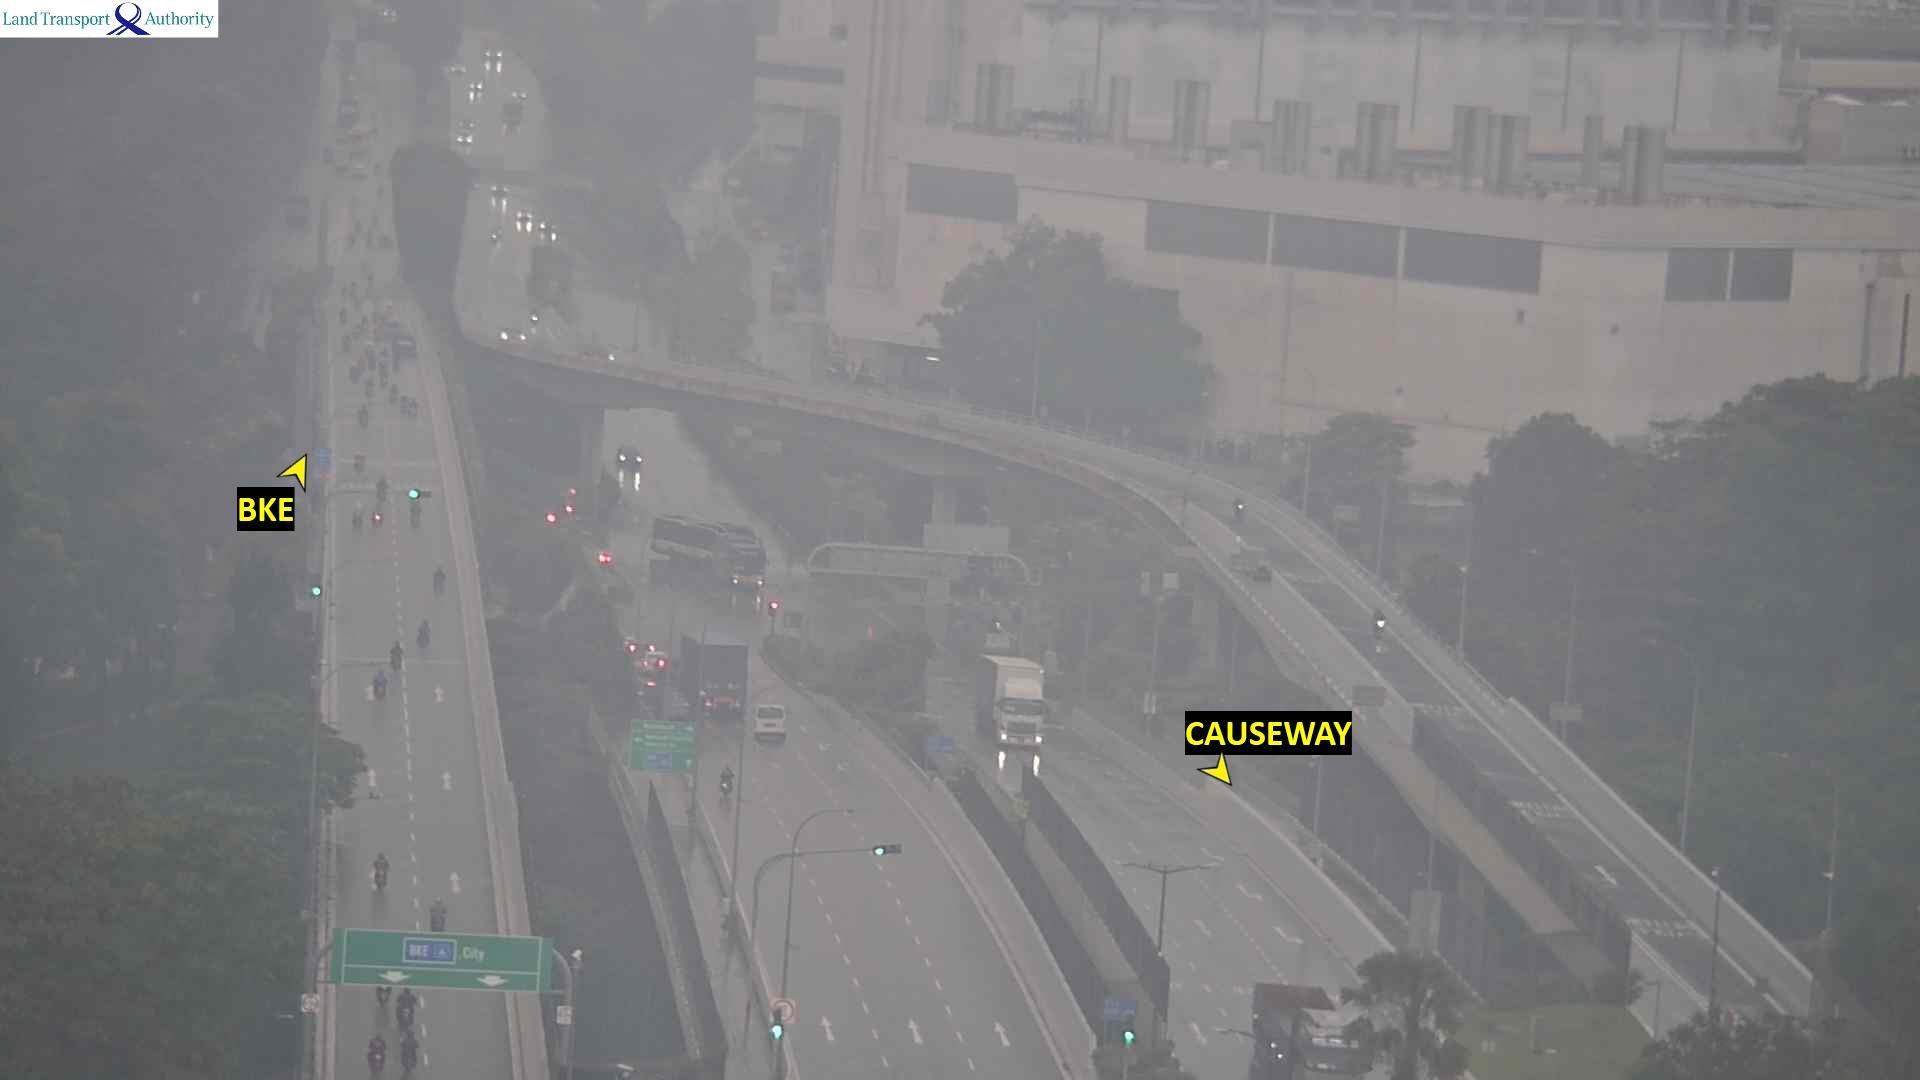vehicle-causeway-johor: (980, 655, 1043, 754), (1225, 538, 1271, 582), (1370, 607, 1386, 636), (497, 327, 527, 342), (1234, 497, 1245, 516), (529, 309, 538, 326)
vehicle-causeway-singapore: (682, 632, 745, 719), (756, 705, 785, 741), (406, 502, 427, 529), (717, 765, 733, 795), (431, 566, 447, 595), (349, 502, 361, 537), (351, 447, 365, 475), (390, 641, 404, 671), (373, 472, 388, 498), (417, 620, 433, 644), (401, 402, 421, 419), (376, 669, 385, 699), (372, 508, 382, 533), (357, 409, 368, 426), (352, 365, 359, 384)
